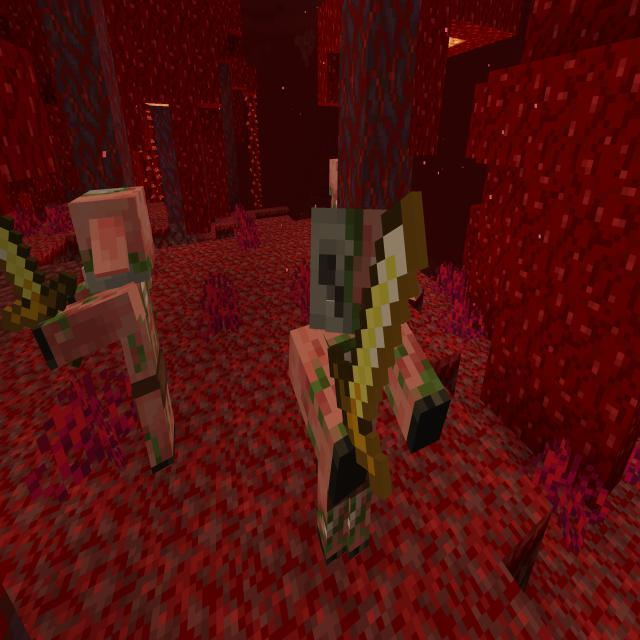Zombified Piglin: (288, 186, 452, 575), (0, 179, 178, 480)
